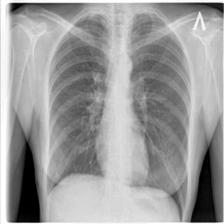tuberculosis: (44, 5, 192, 221)
